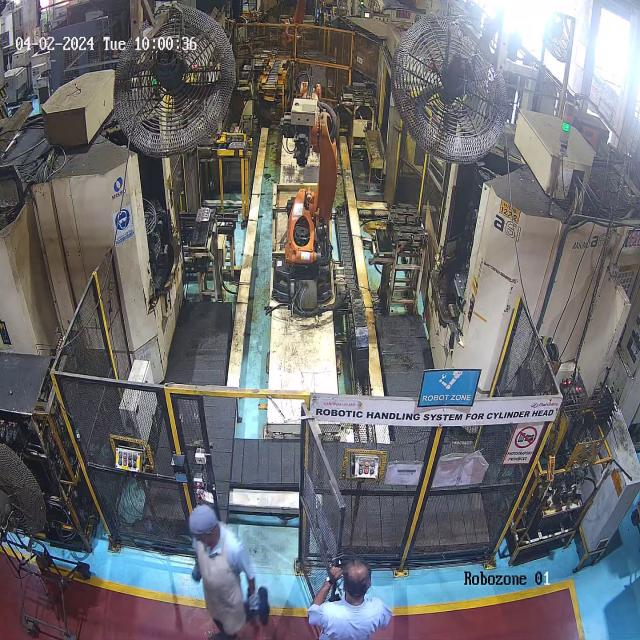person: (182, 505, 272, 640), (307, 560, 393, 640)
